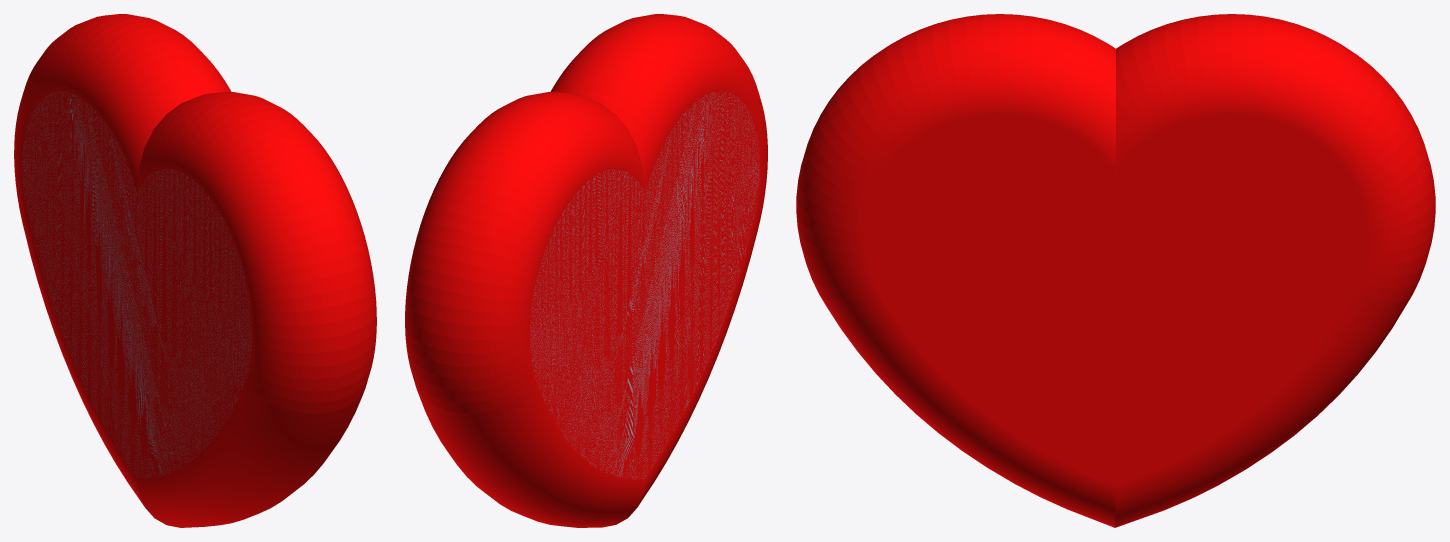
The model's file is Heart_2.fbx.
3 renders of one model, left to right at view 1: azimuth 30°, elevation 25°; view 2: azimuth 150°, elevation 25°; view 3: azimuth 270°, elevation 25°, orthographic. The views are drawn at different scales.
Parts seen in each view (by area): view 1: Model; view 2: Model; view 3: Model.
Part boxes in pixels (bbox=[...]): Model: bbox=[14, 14, 376, 527]; Model: bbox=[405, 14, 767, 527]; Model: bbox=[796, 14, 1435, 527].
Bounding box in the file's own units: 1910 × 7160 × 8294.
